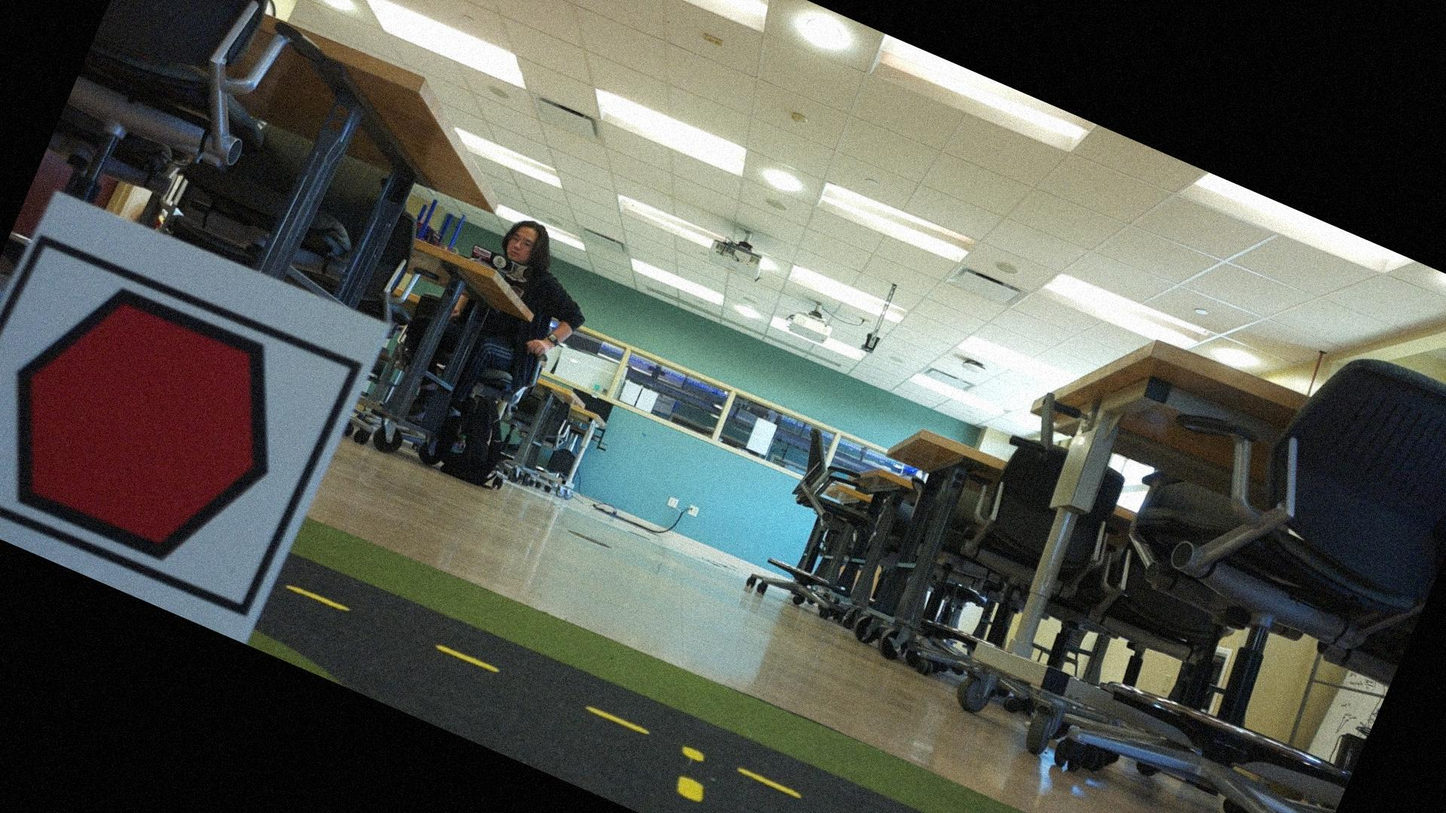stop: (0, 236, 358, 620)
yellowline: (290, 568, 1263, 812), (659, 741, 727, 811)
